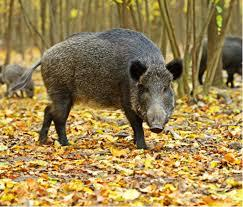wildboar: (7, 26, 188, 152)
